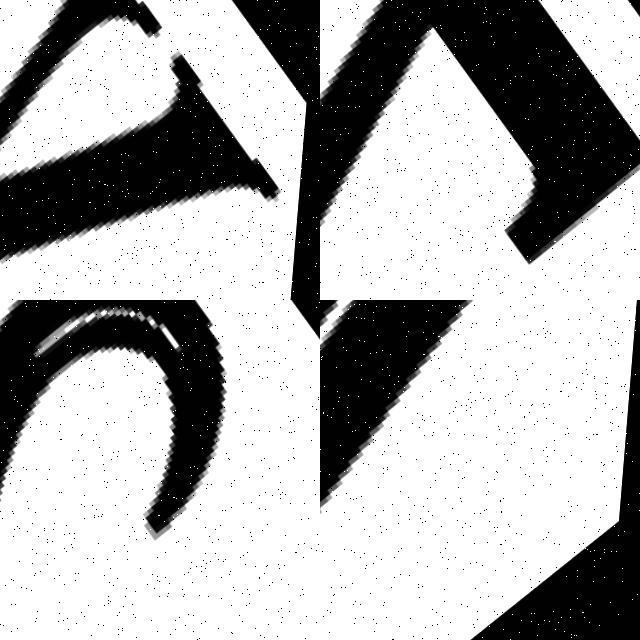2: (0, 300, 320, 640)
7: (320, 0, 640, 300)
N: (320, 300, 640, 640)
Y: (0, 0, 320, 300)
